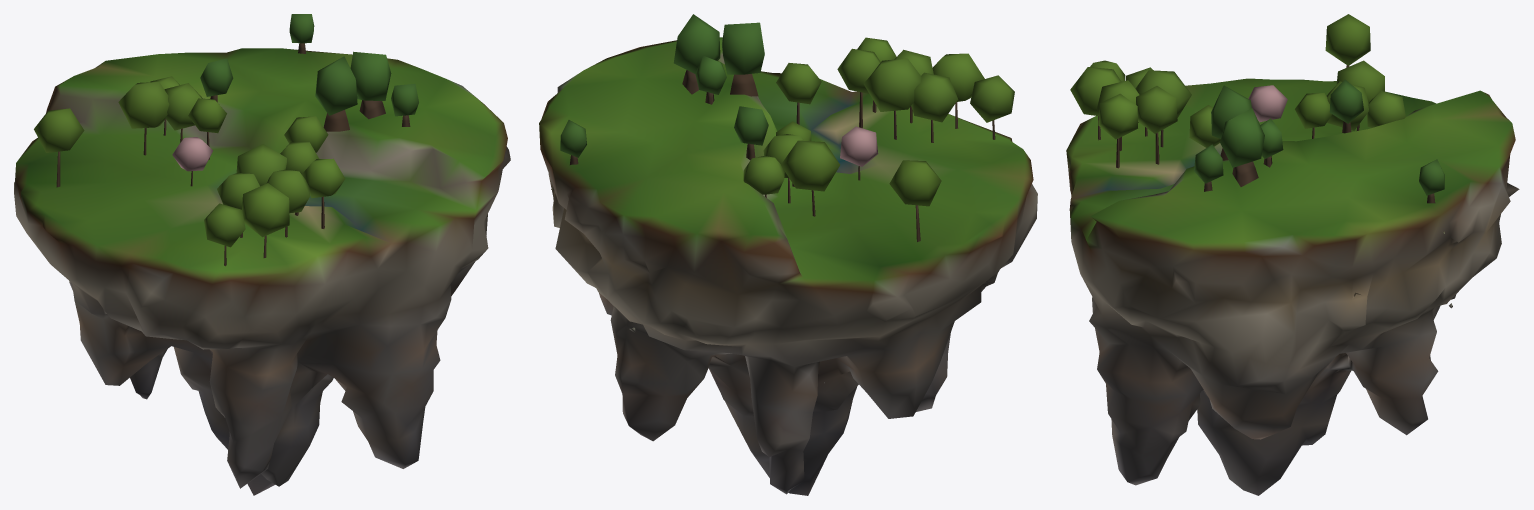
Rendered from island-terrace-lod2.glb.
The picture shows the model from 3 angles, left to right: view 1: azimuth 30°, elevation 25°; view 2: azimuth 150°, elevation 25°; view 3: azimuth 270°, elevation 25°; orthographic projection. The views are drawn at different scales.
Visible parts, largest first — view 1: Silhouette; view 2: Silhouette; view 3: Silhouette.
Part boxes in pixels (x1,y1,x2,y2): Silhouette: (14,14,510,495); Silhouette: (539,14,1037,495); Silhouette: (1066,14,1519,495).
Size of the model in its own units: 73.2 by 70.3 by 66.79.
